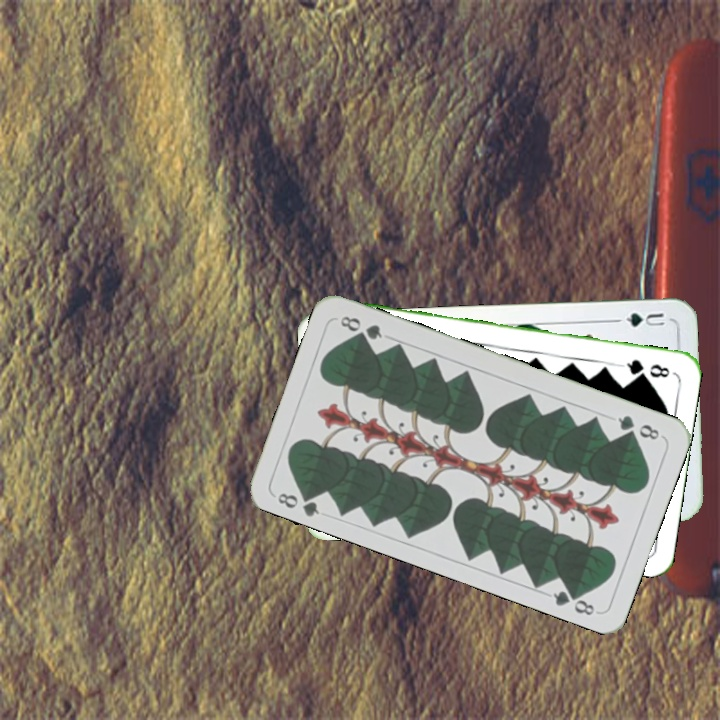G8: (273, 485, 322, 519), (613, 411, 662, 443), (616, 355, 672, 380)
GU: (612, 308, 667, 330)
